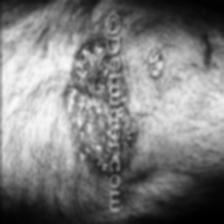Non-Cancerous Skin Condition: (58, 42, 102, 190), (136, 29, 178, 119), (120, 79, 140, 186)
